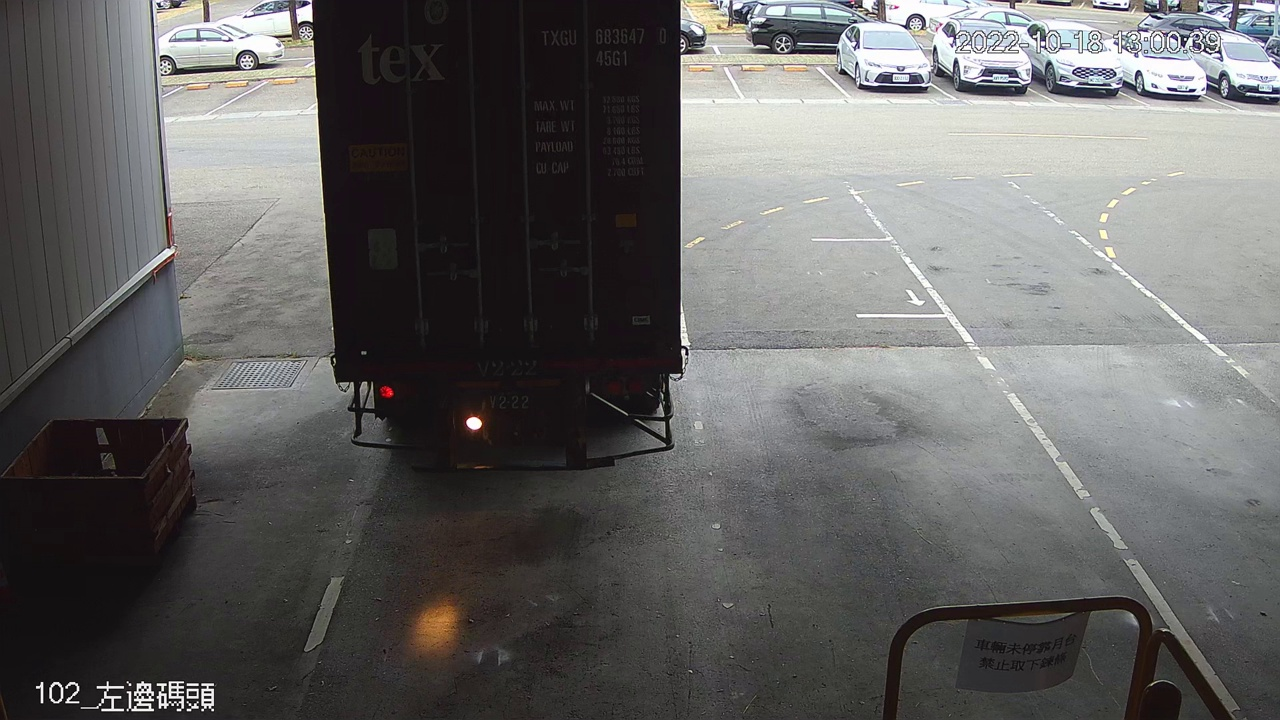container: (531, 20, 674, 76)
